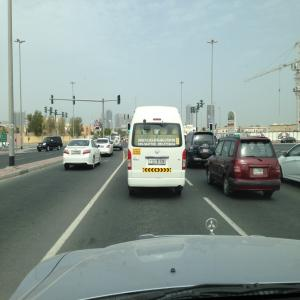Vehicle-registration-plate: (149, 159, 167, 165), (255, 169, 264, 176), (72, 152, 82, 155), (204, 149, 209, 152), (100, 147, 105, 149)
